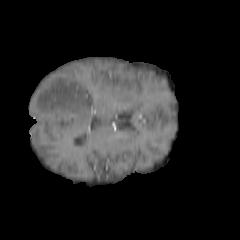glioma: (32, 76, 95, 138)
